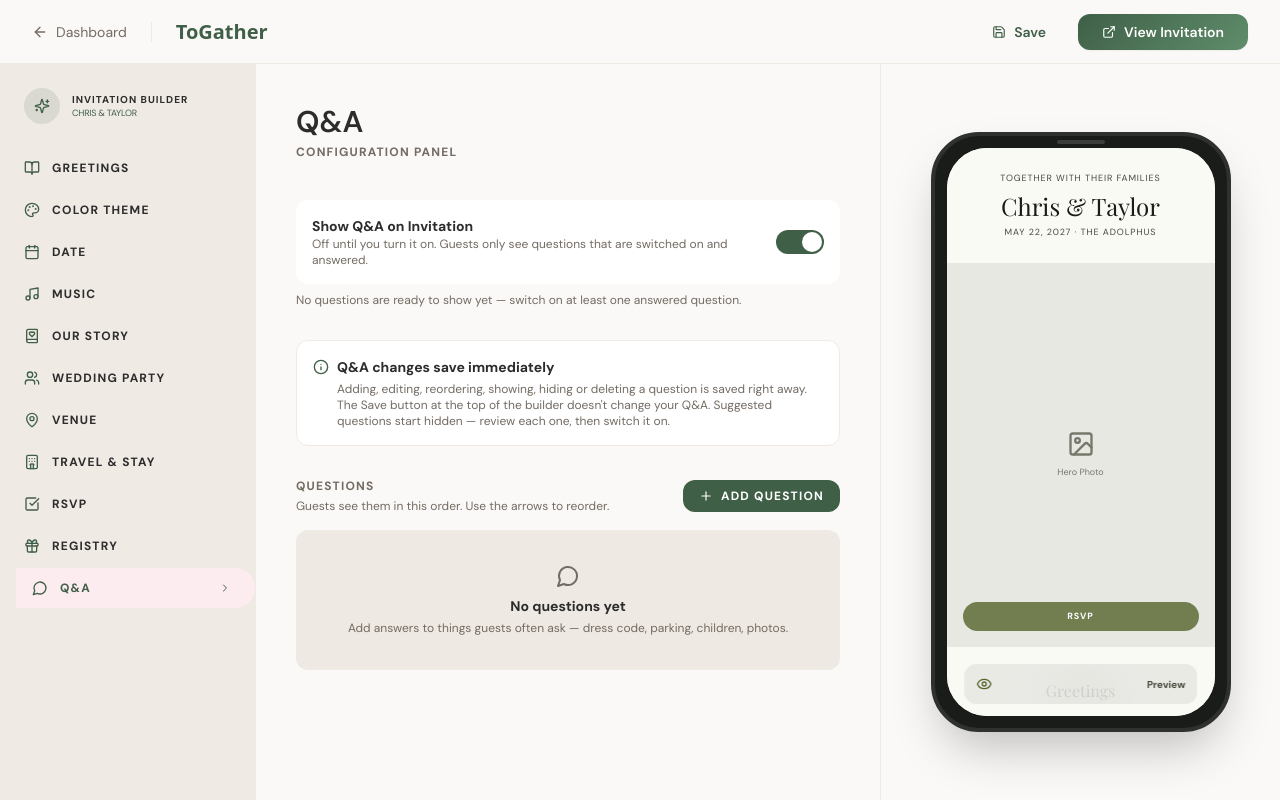
it: Q&A — custom questions › validates before saving
The width and height of the screenshot is (1280, 800).
Check: the element that starts with "Q&A" is shown, box [256,64,880,799]
Click the button "Add Question" at (761, 496), box [683,480,840,512]
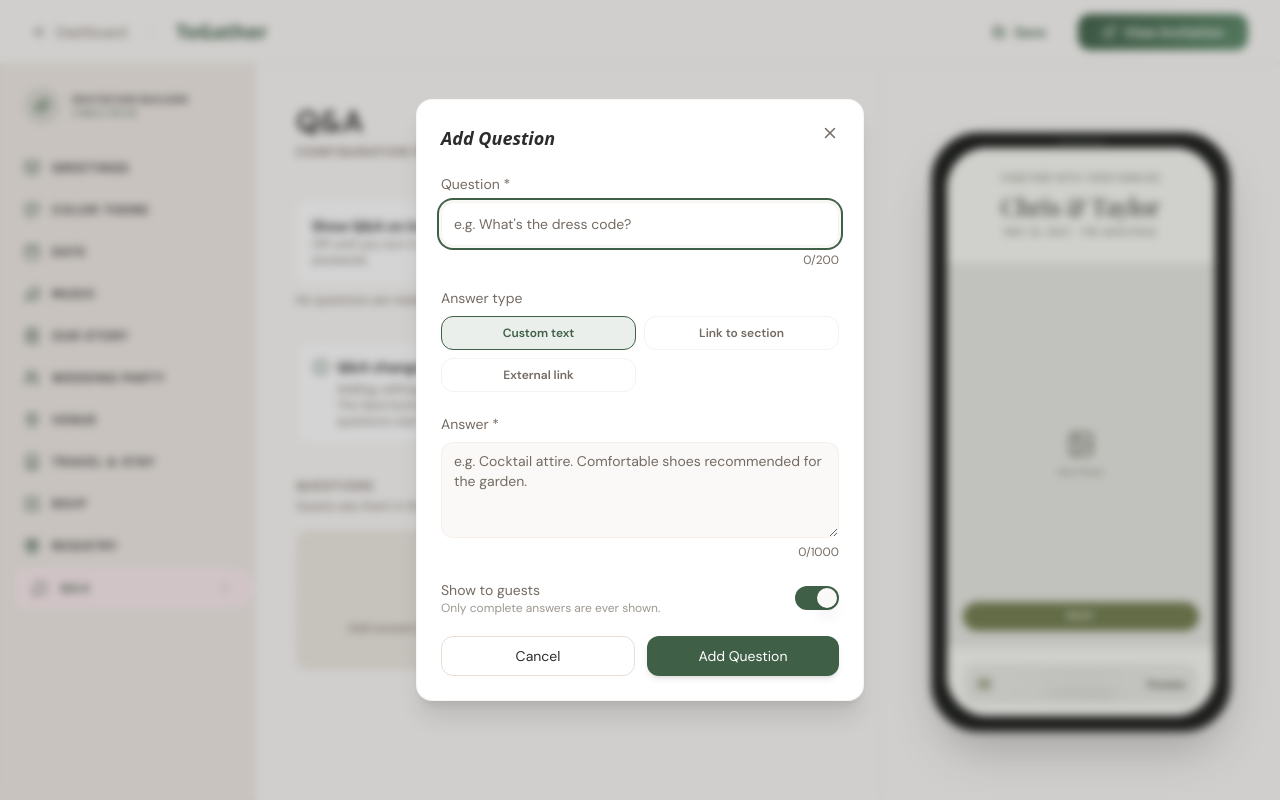
Click the button "Add Question" at (743, 656), box [647,636,839,676]
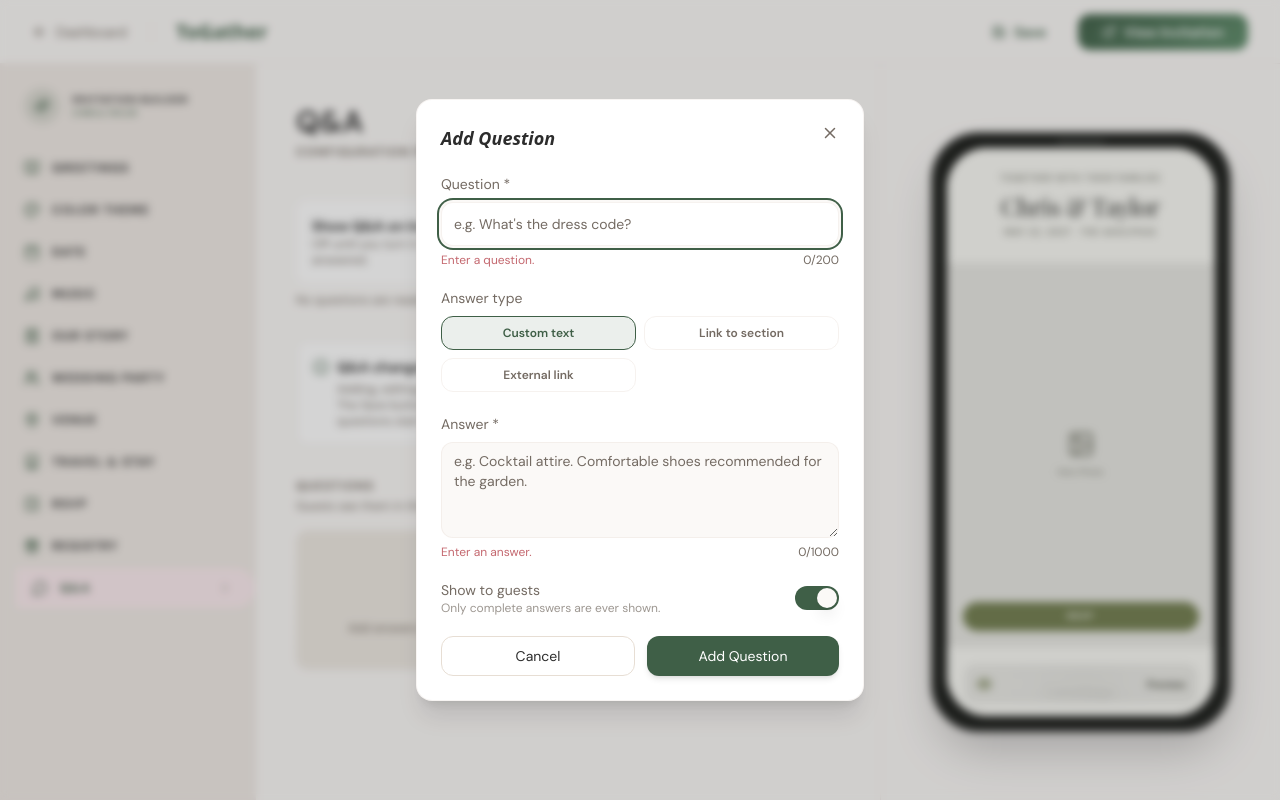
Check: the text "Enter a question." is shown, box [441,252,534,268]
Check: the text "Enter an answer." is shown, box [441,544,532,560]
